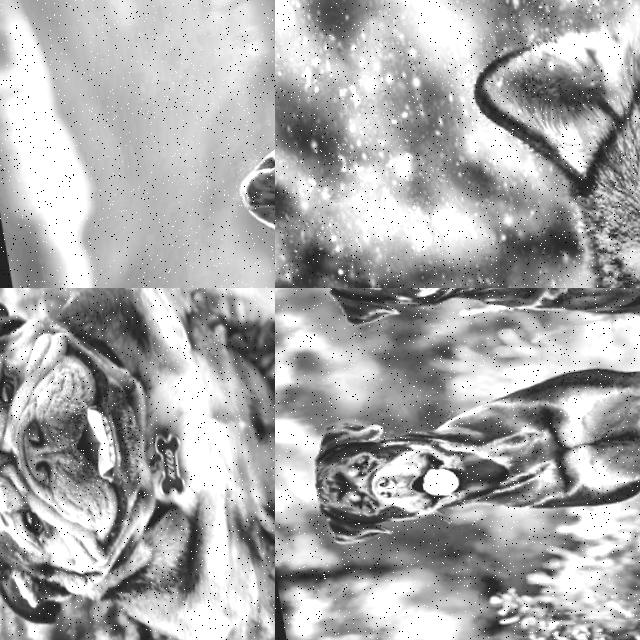beagle: (210, 113, 275, 272)
bulldog: (0, 288, 197, 640)
husky: (433, 0, 640, 288)
rottweiler: (275, 394, 495, 560), (289, 288, 504, 345)
